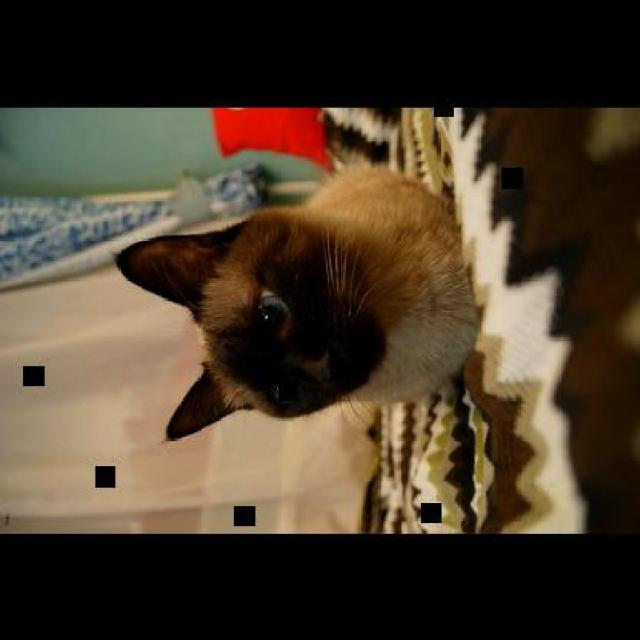unauthorized: (112, 106, 482, 442)
